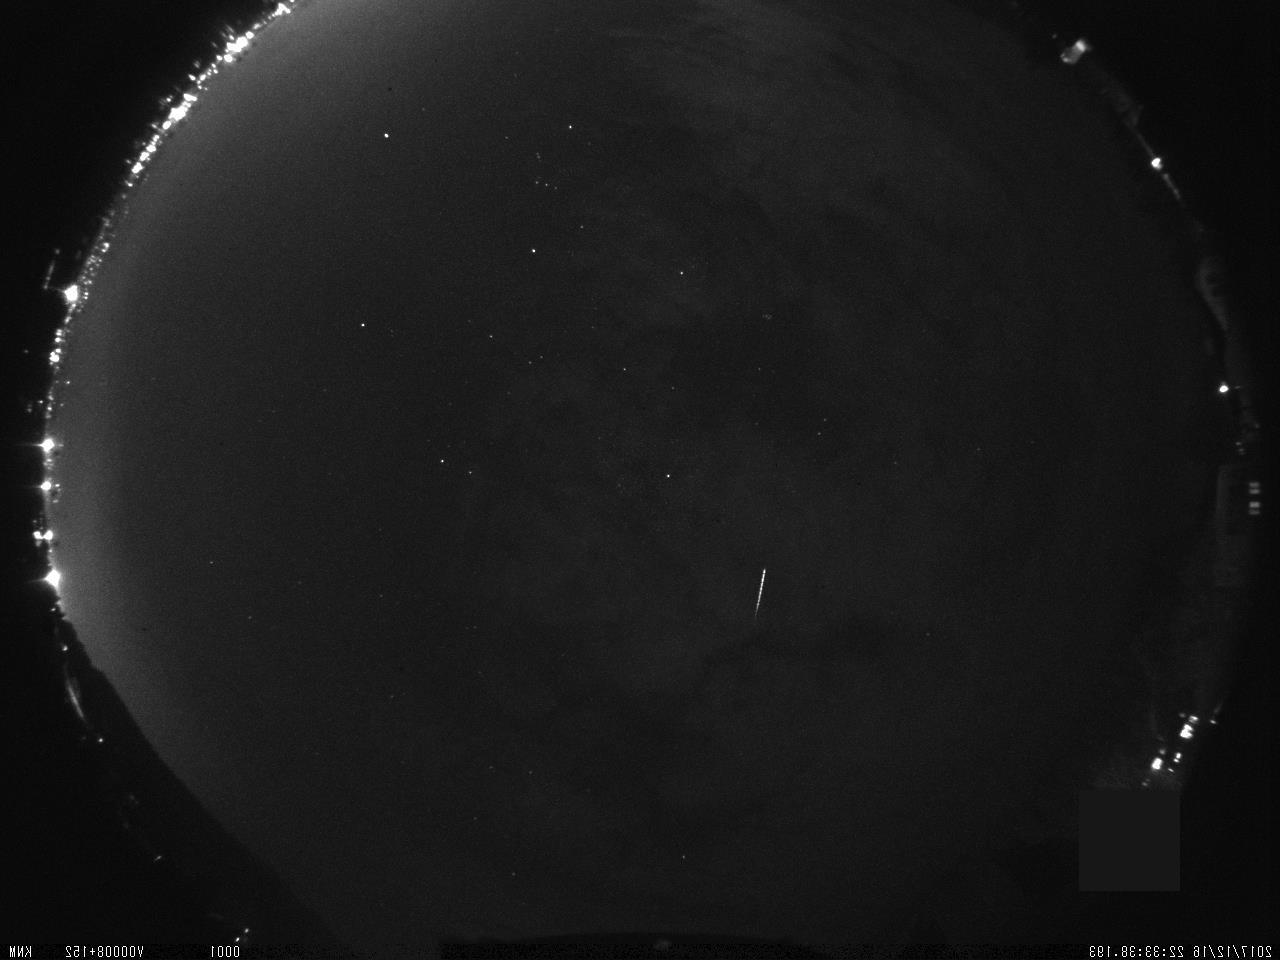meteor: (750, 562, 770, 634)
